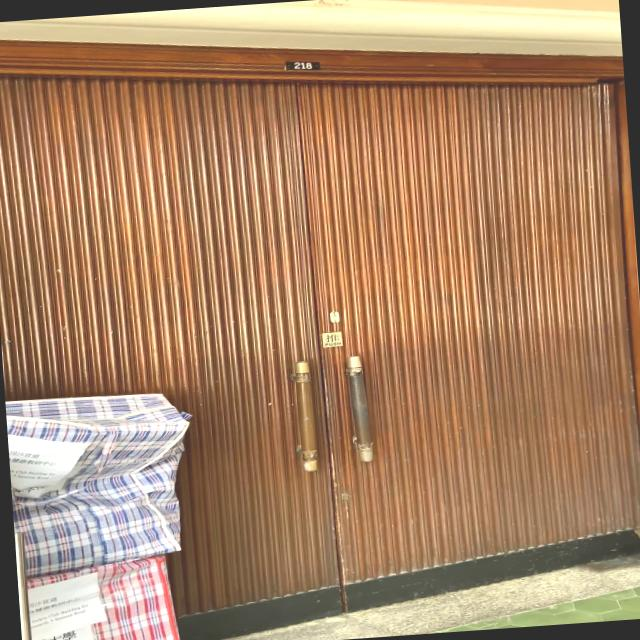room218: (280, 56, 322, 73)
